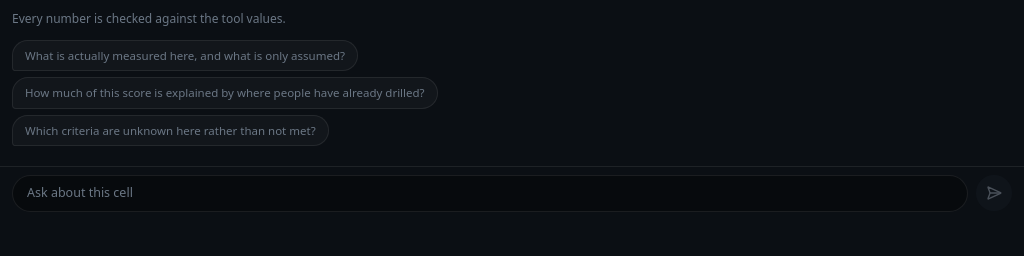
Test: the chat panel with the interface agent › shows the route while working and on the answer, and the retry
Click the button "What is actually measured here, and what is only assumed?" at point(185, 56), box left=12, top=40, right=358, bottom=71
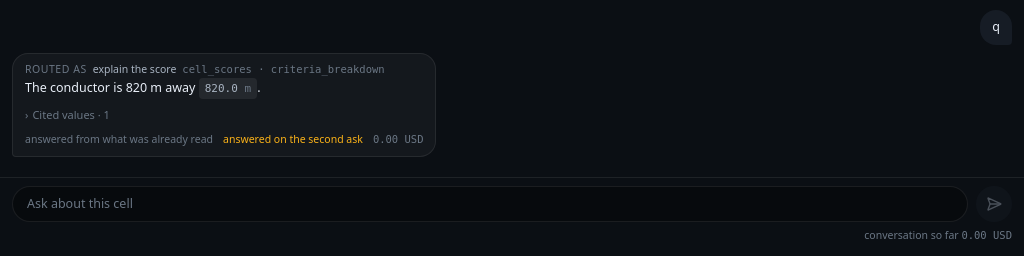
Now the element with test id "chat-route" shows "explain the score", box left=93, top=62, right=176, bottom=76
Now the element with test id "chat-route" shows "cell_scores · criteria_breakdown", box left=182, top=63, right=385, bottom=75
Now the element with test id "chat-turn" shows "answered on the second ask", box left=223, top=132, right=363, bottom=146
